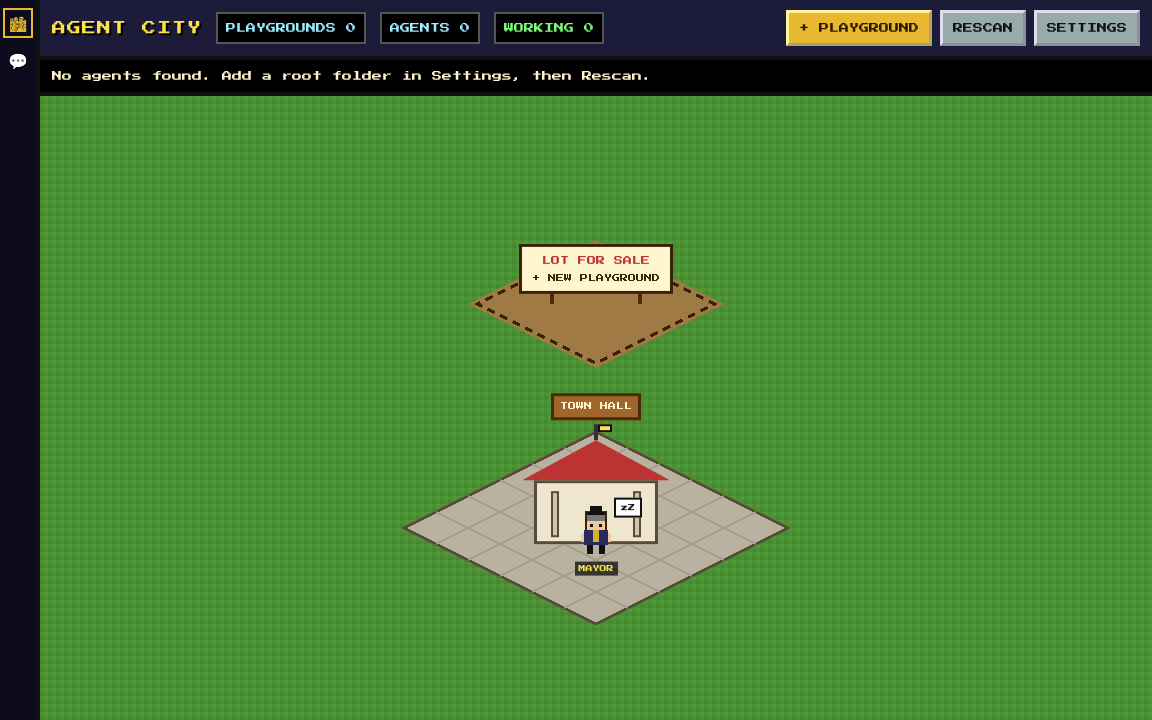
Test: saving settings refetches the agent list and closes the panel
Click the button "SETTINGS": (1087, 28) [1034,10,1140,46]
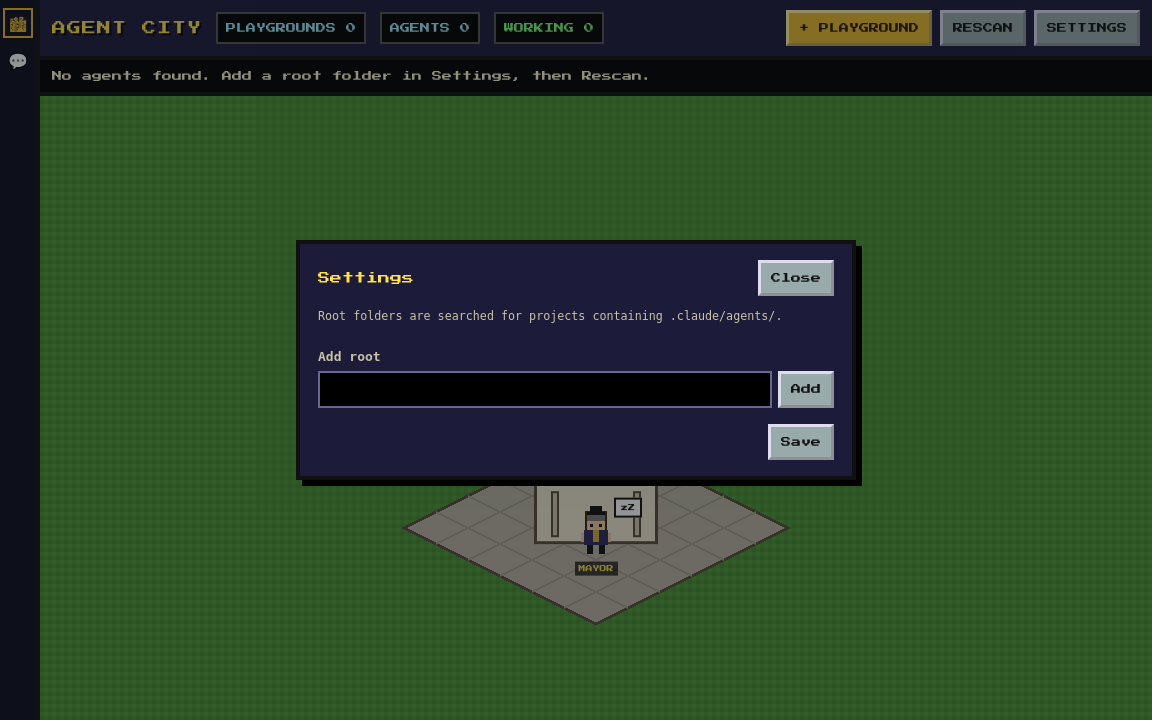
Click the button "Save": (801, 442) [768,424,834,460]
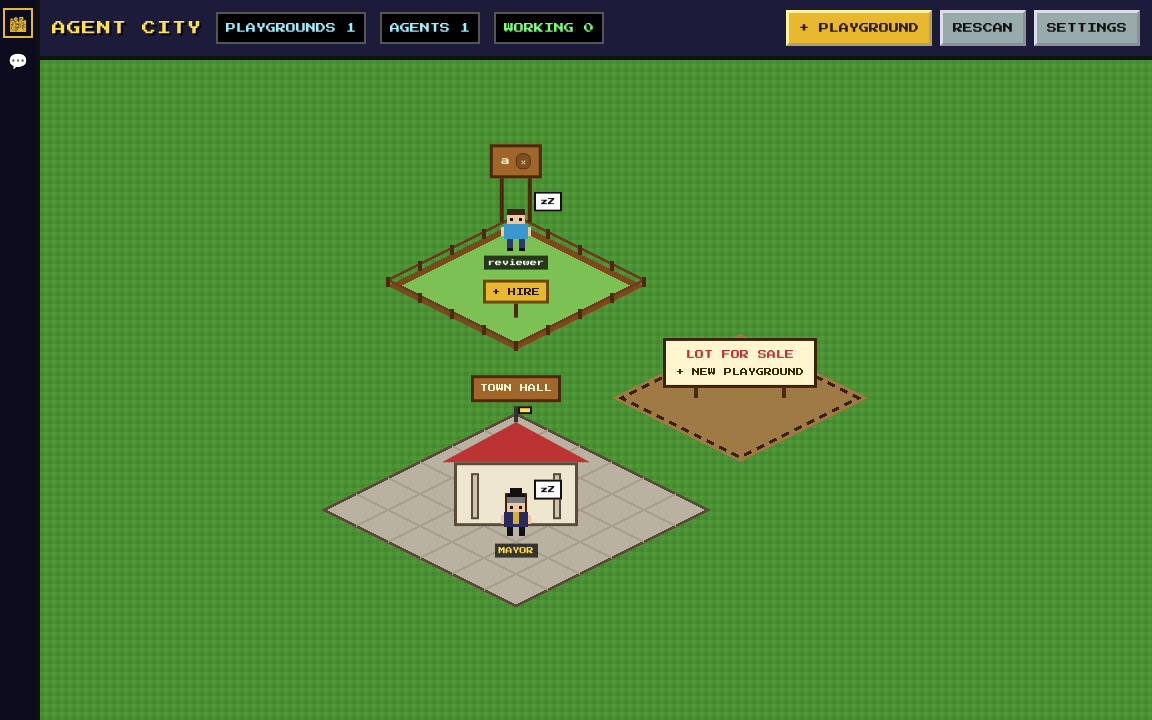
Now the text "reviewer" is shown, box [484,256,548,270]
